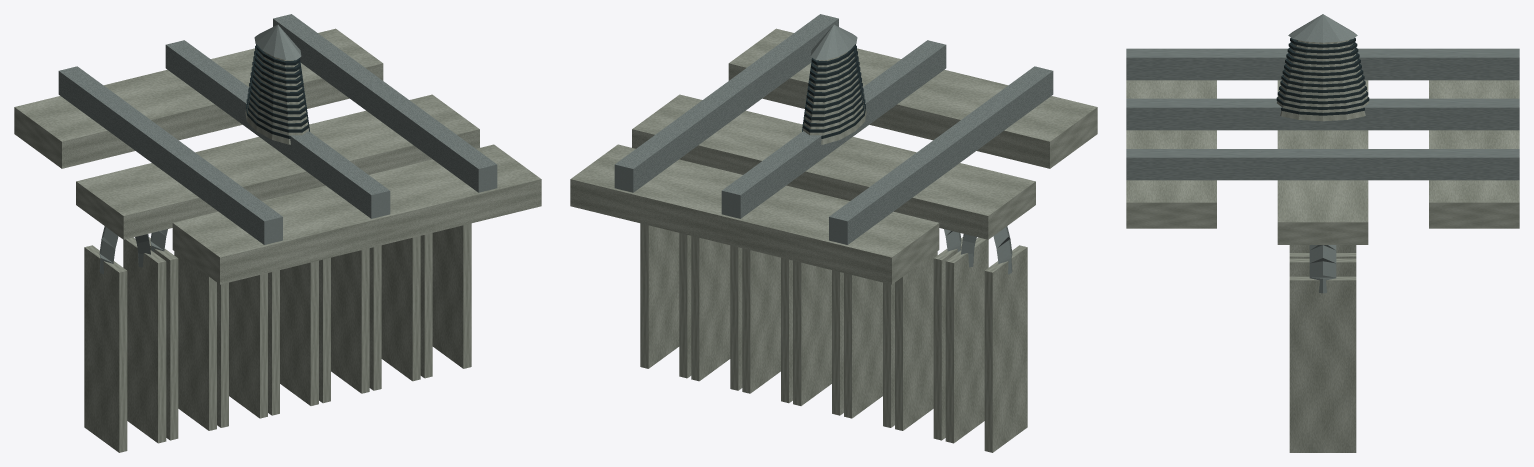
The model's file is transit_exchange_01.fbx.
3 renders of one model, left to right at view 1: azimuth 30°, elevation 25°; view 2: azimuth 150°, elevation 25°; view 3: azimuth 270°, elevation 25°, orthographic. The views are drawn at different scales.
Visible parts, largest first — view 1: transit_exchange_01_LOD0; view 2: transit_exchange_01_LOD0; view 3: transit_exchange_01_LOD0.
Boxes of the visible parts, x1,y1,x2,y2 form: transit_exchange_01_LOD0: (14,14,541,452); transit_exchange_01_LOD0: (570,14,1097,452); transit_exchange_01_LOD0: (1126,14,1519,452).
Size of what is drawn, in the model's own units: 1 by 1 by 1.
